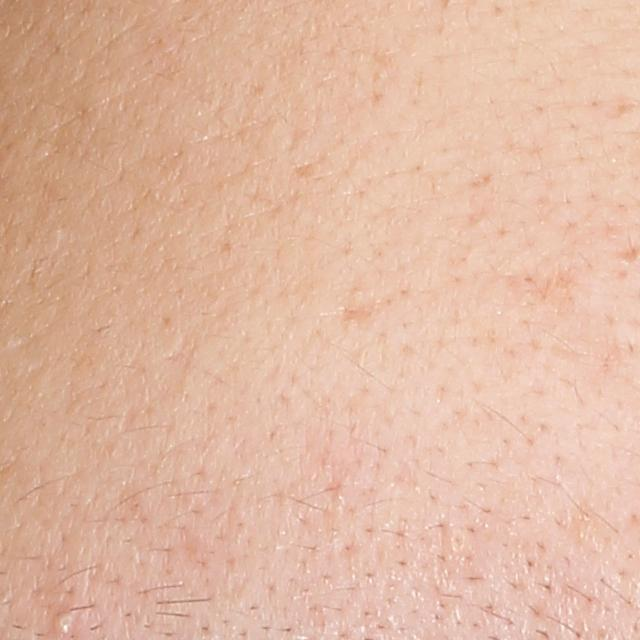atrophic_scar: (323, 298, 383, 327)
pustule: (49, 608, 80, 640)
